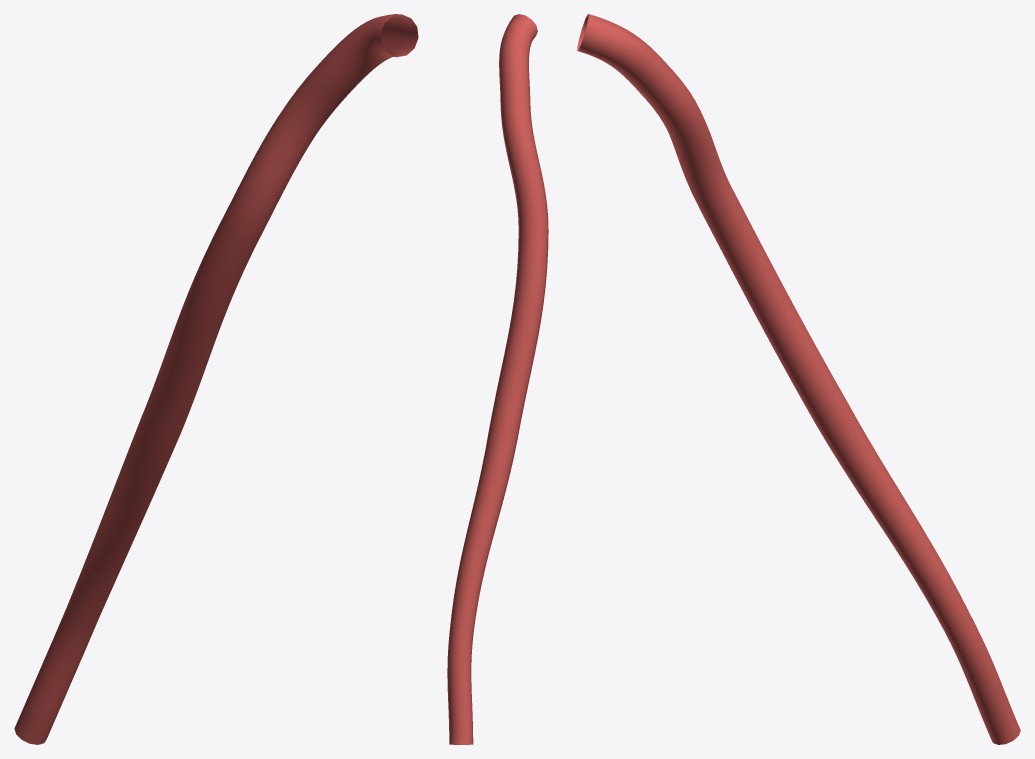
3 views of the same model, side by side, from view 1: azimuth 30°, elevation 25°; view 2: azimuth 150°, elevation 25°; view 3: azimuth 270°, elevation 25° (orthographic). The views are drawn at different scales.
Parts seen in each view (by area): view 1: 右侧足背动脉; view 2: 右侧足背动脉; view 3: 右侧足背动脉.
Part boxes in pixels (bbox=[...]): 右侧足背动脉: bbox=[14, 14, 418, 744]; 右侧足背动脉: bbox=[447, 14, 548, 744]; 右侧足背动脉: bbox=[577, 14, 1020, 744].
Size of the model in its own units: 0.0203 by 0.097 by 0.0496.
